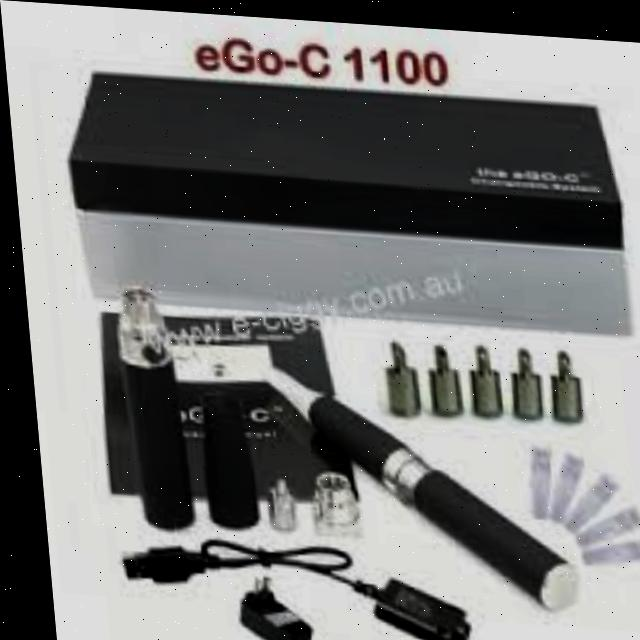vape: (251, 361, 571, 605), (108, 288, 188, 530)
